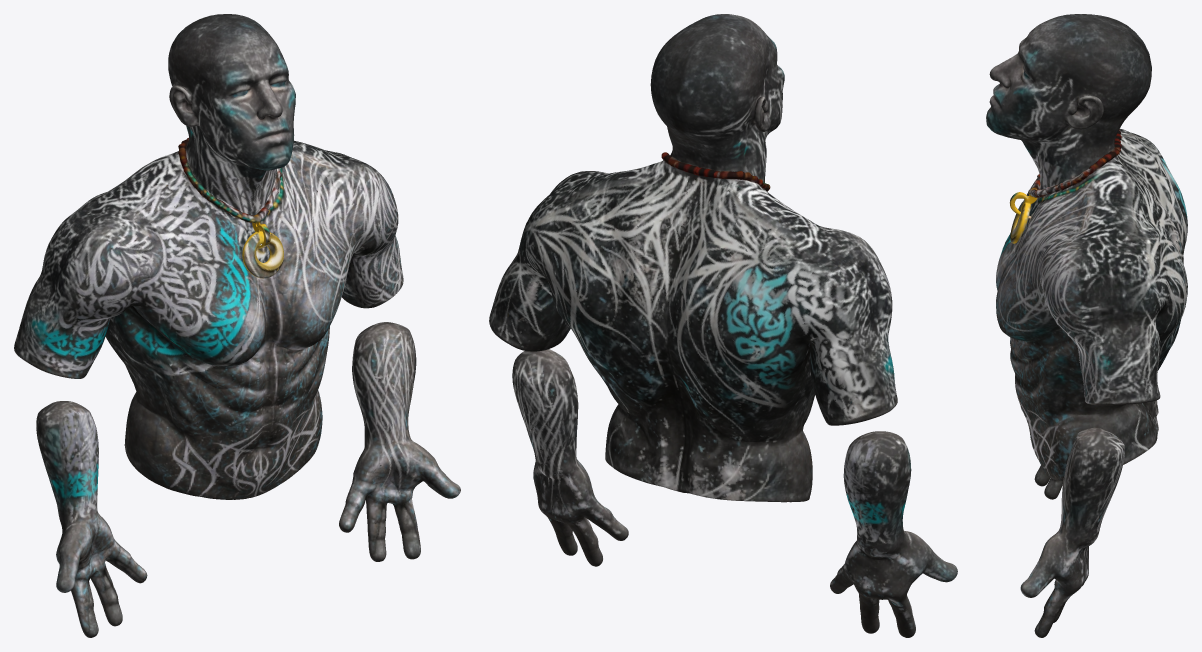
The model's file is nox-statue.glb.
3 views of the same model, side by side, from view 1: azimuth 30°, elevation 25°; view 2: azimuth 150°, elevation 25°; view 3: azimuth 270°, elevation 25° (orthographic). The views are drawn at different scales.
Visible parts, largest first — view 1: world; view 2: world; view 3: world.
Part boxes in pixels (x1,y1,x2,y2): world: [14, 14, 460, 637]; world: [489, 14, 957, 637]; world: [986, 14, 1187, 637].
Size of the model in its own units: 0.7502 by 1 by 0.3376.
Materials: 2 (2 with a texture image).
